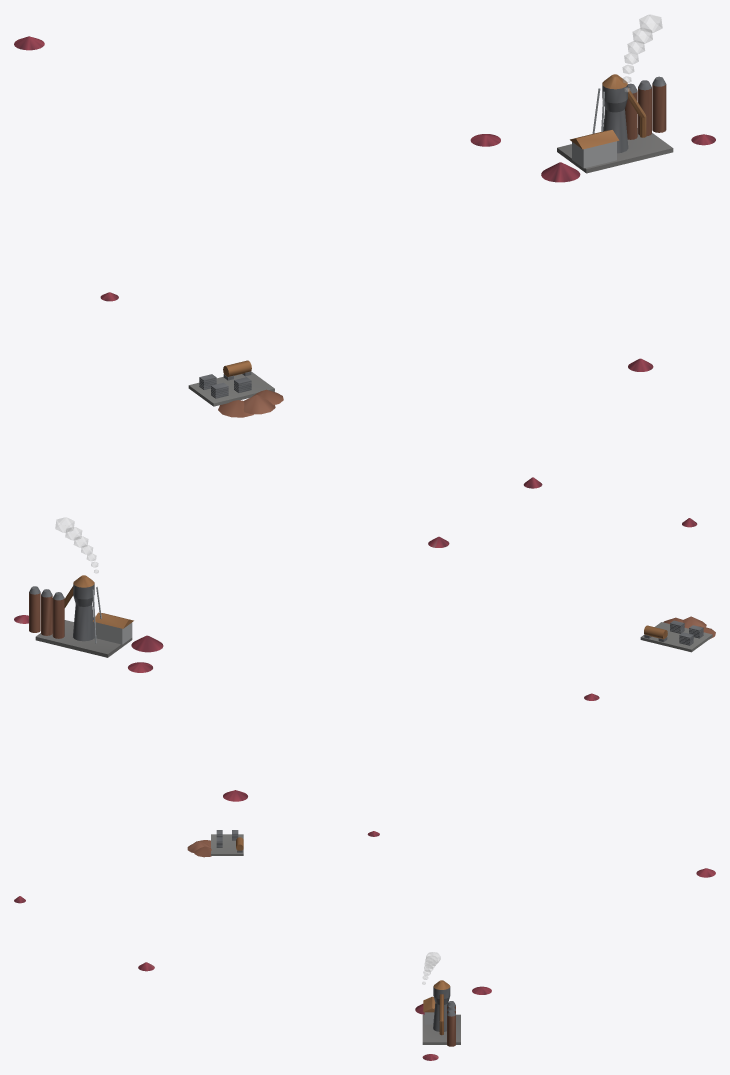
Rendered from Theme_P2.fbx.
3 renders of one model, top to bottom at view 1: azimuth 30°, elevation 25°; view 2: azimuth 150°, elevation 25°; view 3: azimuth 270°, elevation 25°, orthographic. The views are drawn at different scales.
Visible parts, largest first — view 1: Theme.BlastFurnace, Theme.IngotYard, Theme.SlagBank, Theme.FurnaceSmoke; view 2: Theme.BlastFurnace, Theme.IngotYard, Theme.FurnaceSmoke; view 3: Theme.BlastFurnace, Theme.IngotYard.
Boxes of the visible parts, <box> form: Theme.BlastFurnace: <box>557,74,673,173</box>; Theme.IngotYard: <box>188,360,274,406</box>; Theme.SlagBank: <box>218,389,283,417</box>; Theme.FurnaceSmoke: <box>622,14,662,91</box>; Theme.BlastFurnace: <box>29,575,133,657</box>; Theme.IngotYard: <box>640,620,712,652</box>; Theme.FurnaceSmoke: <box>55,517,98,573</box>; Theme.BlastFurnace: <box>422,980,460,1046</box>; Theme.IngotYard: <box>211,830,243,855</box>.
Size of the model in its own units: 26208 by 5117 by 36416.
